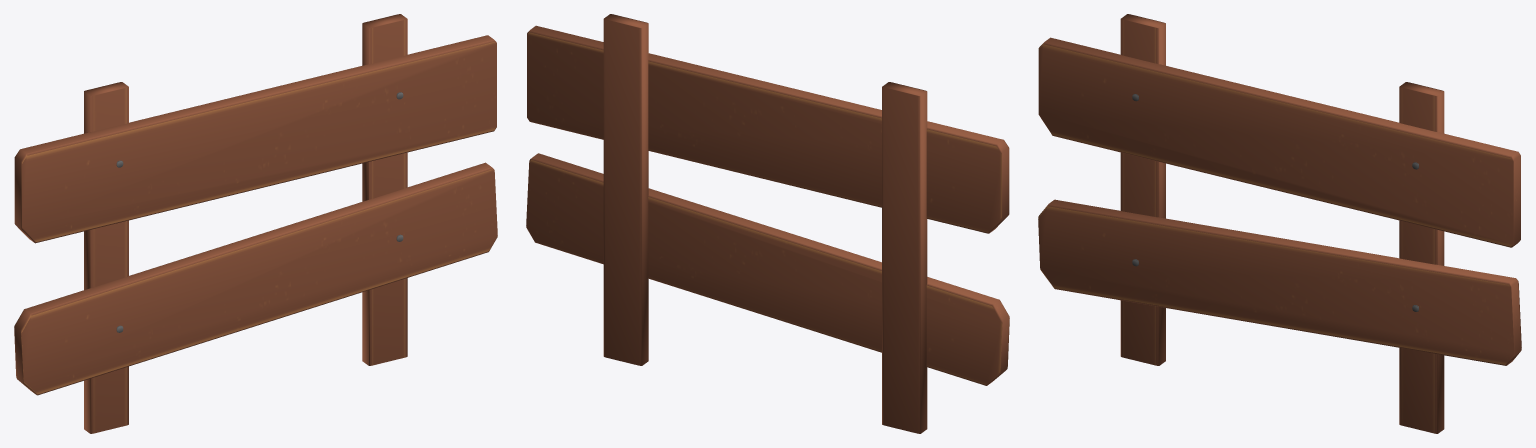
File: pagar_3.fbx
The picture shows the model from 3 angles, left to right: view 1: azimuth 30°, elevation 25°; view 2: azimuth 150°, elevation 25°; view 3: azimuth 330°, elevation 25°; orthographic projection.
Visible parts, largest first — view 1: pagar_3; view 2: pagar_3; view 3: pagar_3.
Part boxes in pixels (<box>): pagar_3: <box>14,14,497,433</box>; pagar_3: <box>526,14,1009,433</box>; pagar_3: <box>1038,14,1521,433</box>.
Size of the model in its own units: 523 by 354 by 28.02.
